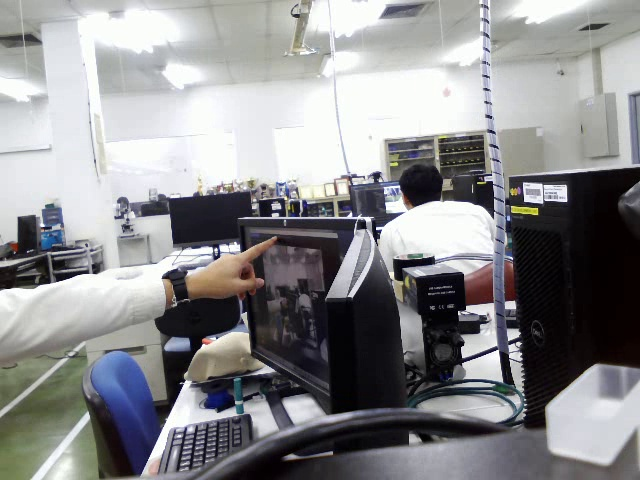aaa: (71, 344, 165, 477)
